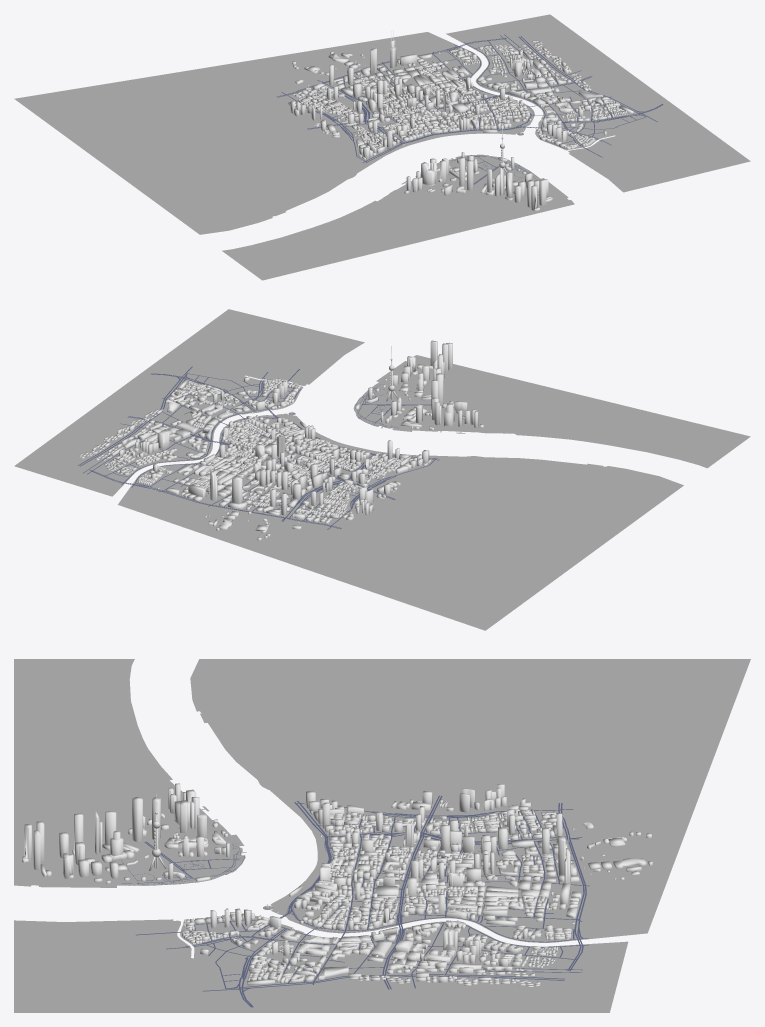
File: shanghai.glb
3 renders of one model, top to bottom at view 1: azimuth 30°, elevation 25°; view 2: azimuth 150°, elevation 25°; view 3: azimuth 270°, elevation 25°, orthographic. The views are drawn at different scales.
Visible parts, largest first — view 1: LANDMASS, CITY_UNTRIANGULATED, ROADS; view 2: LANDMASS, CITY_UNTRIANGULATED, ROADS; view 3: LANDMASS, CITY_UNTRIANGULATED, ROADS.
Part boxes in pixels (x1=…): LANDMASS: x1=14, y1=14, x2=750, y2=280; CITY_UNTRIANGULATED: x1=288, y1=31, x2=634, y2=210; ROADS: x1=276, y1=34, x2=663, y2=184; LANDMASS: x1=14, y1=309, x2=750, y2=630; CITY_UNTRIANGULATED: x1=79, y1=340, x2=483, y2=540; ROADS: x1=78, y1=366, x2=439, y2=529; LANDMASS: x1=14, y1=659, x2=750, y2=1012; CITY_UNTRIANGULATED: x1=22, y1=783, x2=652, y2=986; ROADS: x1=121, y1=795, x2=589, y2=1007.
Bounding box in the file's own units: 4027 × 410 × 3545.
